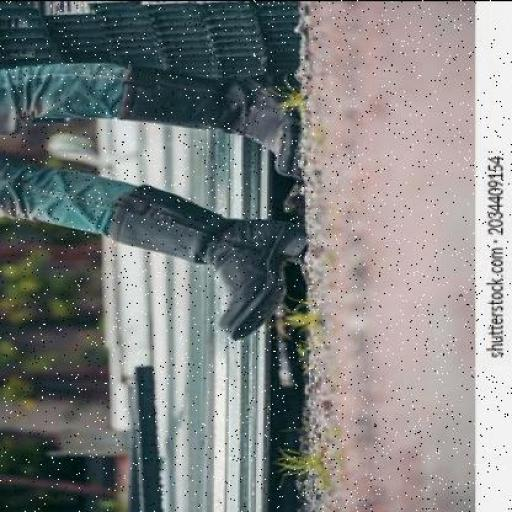safety_shoe: (109, 205, 309, 334), (118, 62, 307, 174)
